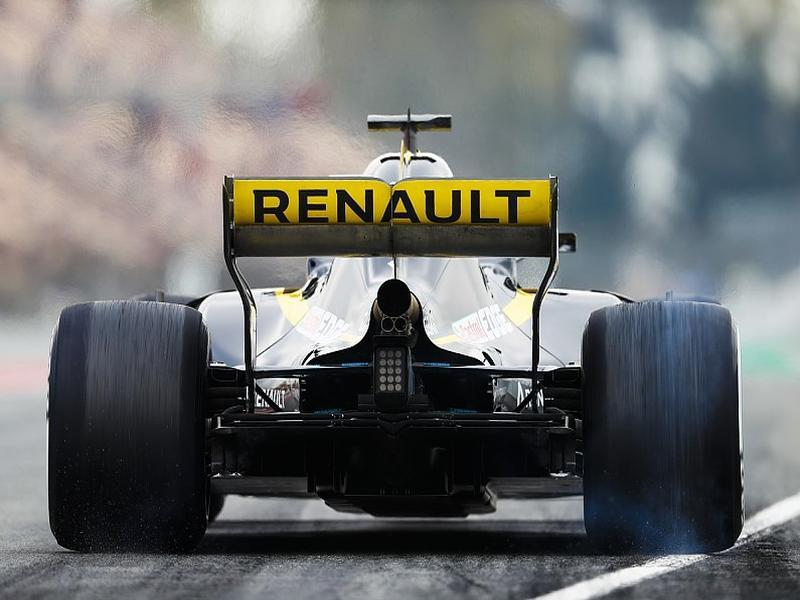racecar: (23, 102, 763, 567)
